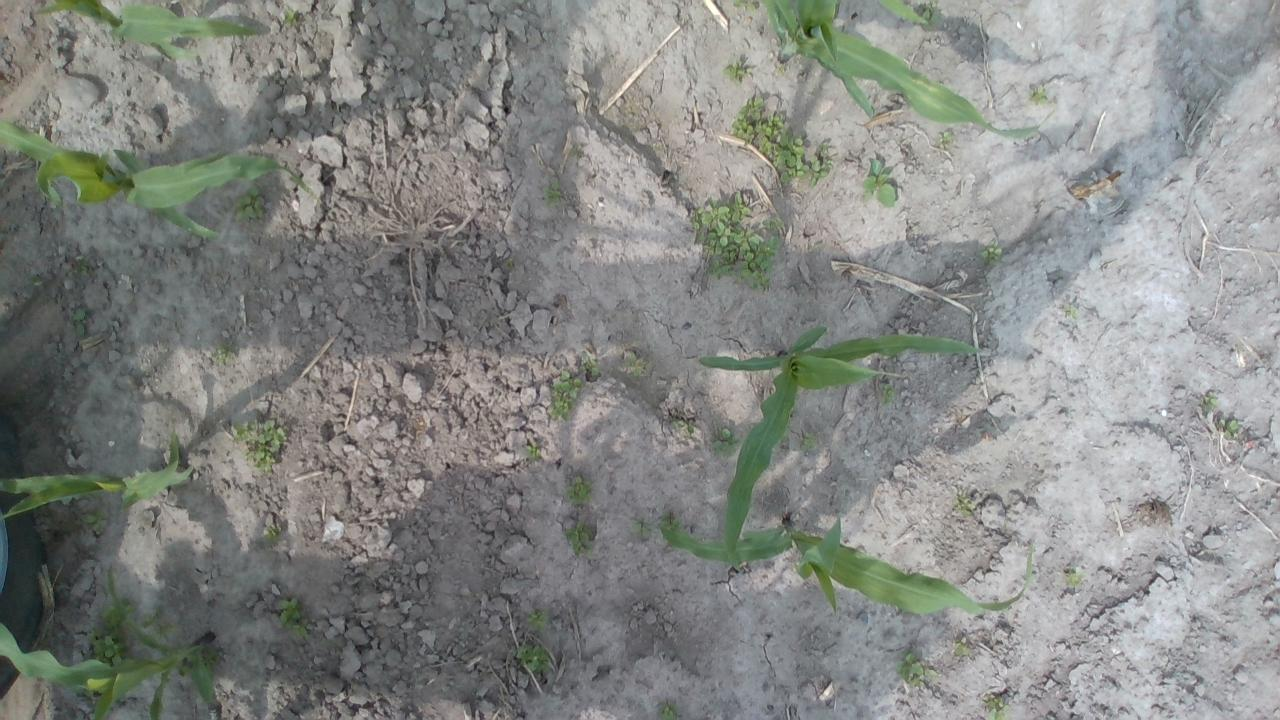Maize: (695, 322, 979, 572), (756, 0, 1042, 145), (0, 120, 313, 244), (659, 518, 1035, 618), (0, 567, 223, 720), (0, 436, 197, 519), (30, 0, 270, 64)
Weeds: (730, 96, 836, 187), (690, 189, 784, 289), (237, 420, 287, 474), (91, 609, 132, 665), (1200, 391, 1238, 436), (269, 597, 304, 637), (234, 190, 266, 226), (706, 424, 734, 458), (566, 523, 595, 555), (556, 373, 574, 420), (522, 644, 548, 676), (562, 480, 591, 508), (212, 344, 241, 368), (958, 495, 982, 523), (542, 180, 566, 206), (898, 659, 926, 679), (724, 60, 748, 83), (578, 352, 596, 381), (526, 604, 552, 624), (982, 243, 1004, 266), (1064, 564, 1084, 588), (880, 378, 894, 412), (984, 696, 1002, 720), (1030, 80, 1048, 103), (284, 8, 300, 32), (954, 640, 971, 658), (526, 446, 540, 463)
